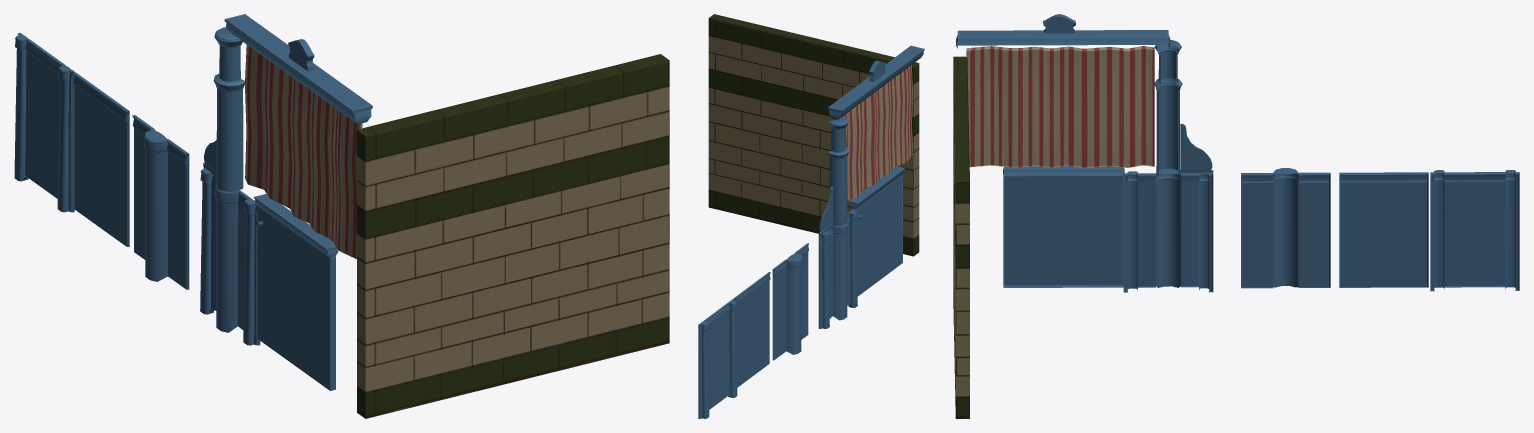
The model's file is ChangeRoomModular.fbx.
3 renders of one model, left to right at view 1: azimuth 30°, elevation 25°; view 2: azimuth 150°, elevation 25°; view 3: azimuth 270°, elevation 25°, orthographic. The views are drawn at different scales.
Parts seen in each view (by area): view 1: ChangeRoom_wall, ChangeRoom_Curtain, ChangeroomDoor, Changeroom_Panel_v4, Changeroom_Panel_v1, Changeroom_Panel_v2, Changeroom_Panel_v3, ChangeroomBeam, Changeroom_TopBeam, Changeroom_DoorPiece, Changeroom_TopPiece; view 2: ChangeRoom_wall, ChangeRoom_Curtain, ChangeroomDoor, Changeroom_Panel_v1, Changeroom_Panel_v4, Changeroom_Panel_v2, Changeroom_Panel_v3, ChangeroomBeam, Changeroom_TopBeam, Changeroom_DoorPiece, Changeroom_FancyPiece, Changeroom_TopPiece; view 3: ChangeRoom_Curtain, ChangeroomDoor, Changeroom_Panel_v1, Changeroom_Panel_v4, Changeroom_Panel_v2, Changeroom_Panel_v3, ChangeRoom_wall, Changeroom_TopBeam, ChangeroomBeam, Changeroom_FancyPiece, Changeroom_DoorPiece, Changeroom_TopPiece.
Part boxes in pixels (<box>): ChangeRoom_wall: <box>357,54,669,418</box>; ChangeRoom_Curtain: <box>245,45,362,259</box>; ChangeroomDoor: <box>257,205,335,390</box>; Changeroom_Panel_v4: <box>14,32,74,212</box>; Changeroom_Panel_v1: <box>200,167,260,345</box>; Changeroom_Panel_v2: <box>132,115,189,289</box>; Changeroom_Panel_v3: <box>73,72,129,247</box>; ChangeroomBeam: <box>213,27,244,191</box>; Changeroom_TopBeam: <box>224,14,372,124</box>; Changeroom_DoorPiece: <box>254,194,338,257</box>; Changeroom_TopPiece: <box>288,39,314,70</box>; ChangeRoom_wall: <box>708,14,919,256</box>; ChangeRoom_Curtain: <box>843,65,912,202</box>; ChangeroomDoor: <box>851,174,902,296</box>; Changeroom_Panel_v1: <box>818,209,857,328</box>; Changeroom_Panel_v4: <box>698,298,737,418</box>; Changeroom_Panel_v2: <box>772,243,808,360</box>; Changeroom_Panel_v3: <box>734,272,770,387</box>; ChangeroomBeam: <box>828,116,849,225</box>; Changeroom_TopBeam: <box>828,45,924,119</box>; Changeroom_DoorPiece: <box>849,166,904,208</box>; Changeroom_FancyPiece: <box>819,186,833,235</box>; Changeroom_TopPiece: <box>869,60,885,81</box>; ChangeRoom_Curtain: <box>966,46,1154,167</box>; ChangeroomDoor: <box>1003,173,1123,287</box>; Changeroom_Panel_v1: <box>1123,168,1213,292</box>; Changeroom_Panel_v4: <box>1430,170,1519,291</box>; Changeroom_Panel_v2: <box>1241,168,1330,288</box>; Changeroom_Panel_v3: <box>1339,172,1428,287</box>; ChangeRoom_wall: <box>953,56,969,418</box>; Changeroom_TopBeam: <box>956,30,1170,48</box>; ChangeroomBeam: <box>1154,40,1182,175</box>; Changeroom_FancyPiece: <box>1180,123,1213,174</box>; Changeroom_DoorPiece: <box>1003,166,1124,175</box>; Changeroom_TopPiece: <box>1043,14,1075,33</box>.
Bounding box in the file's own units: 240 × 233 × 430.
